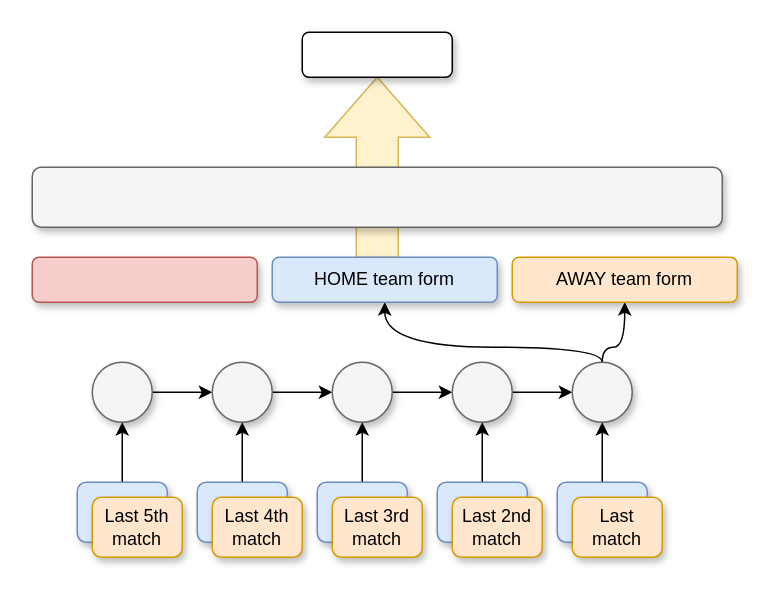
Some shapes in this 773 by 594 pixel diagram are drawn without their labels. Each missing label, with the centre of its shape:
"Match data" belongs at pixel 145 281.
"MLP" belongs at pixel 378 199.
"Outcome" belongs at pixel 378 56.
